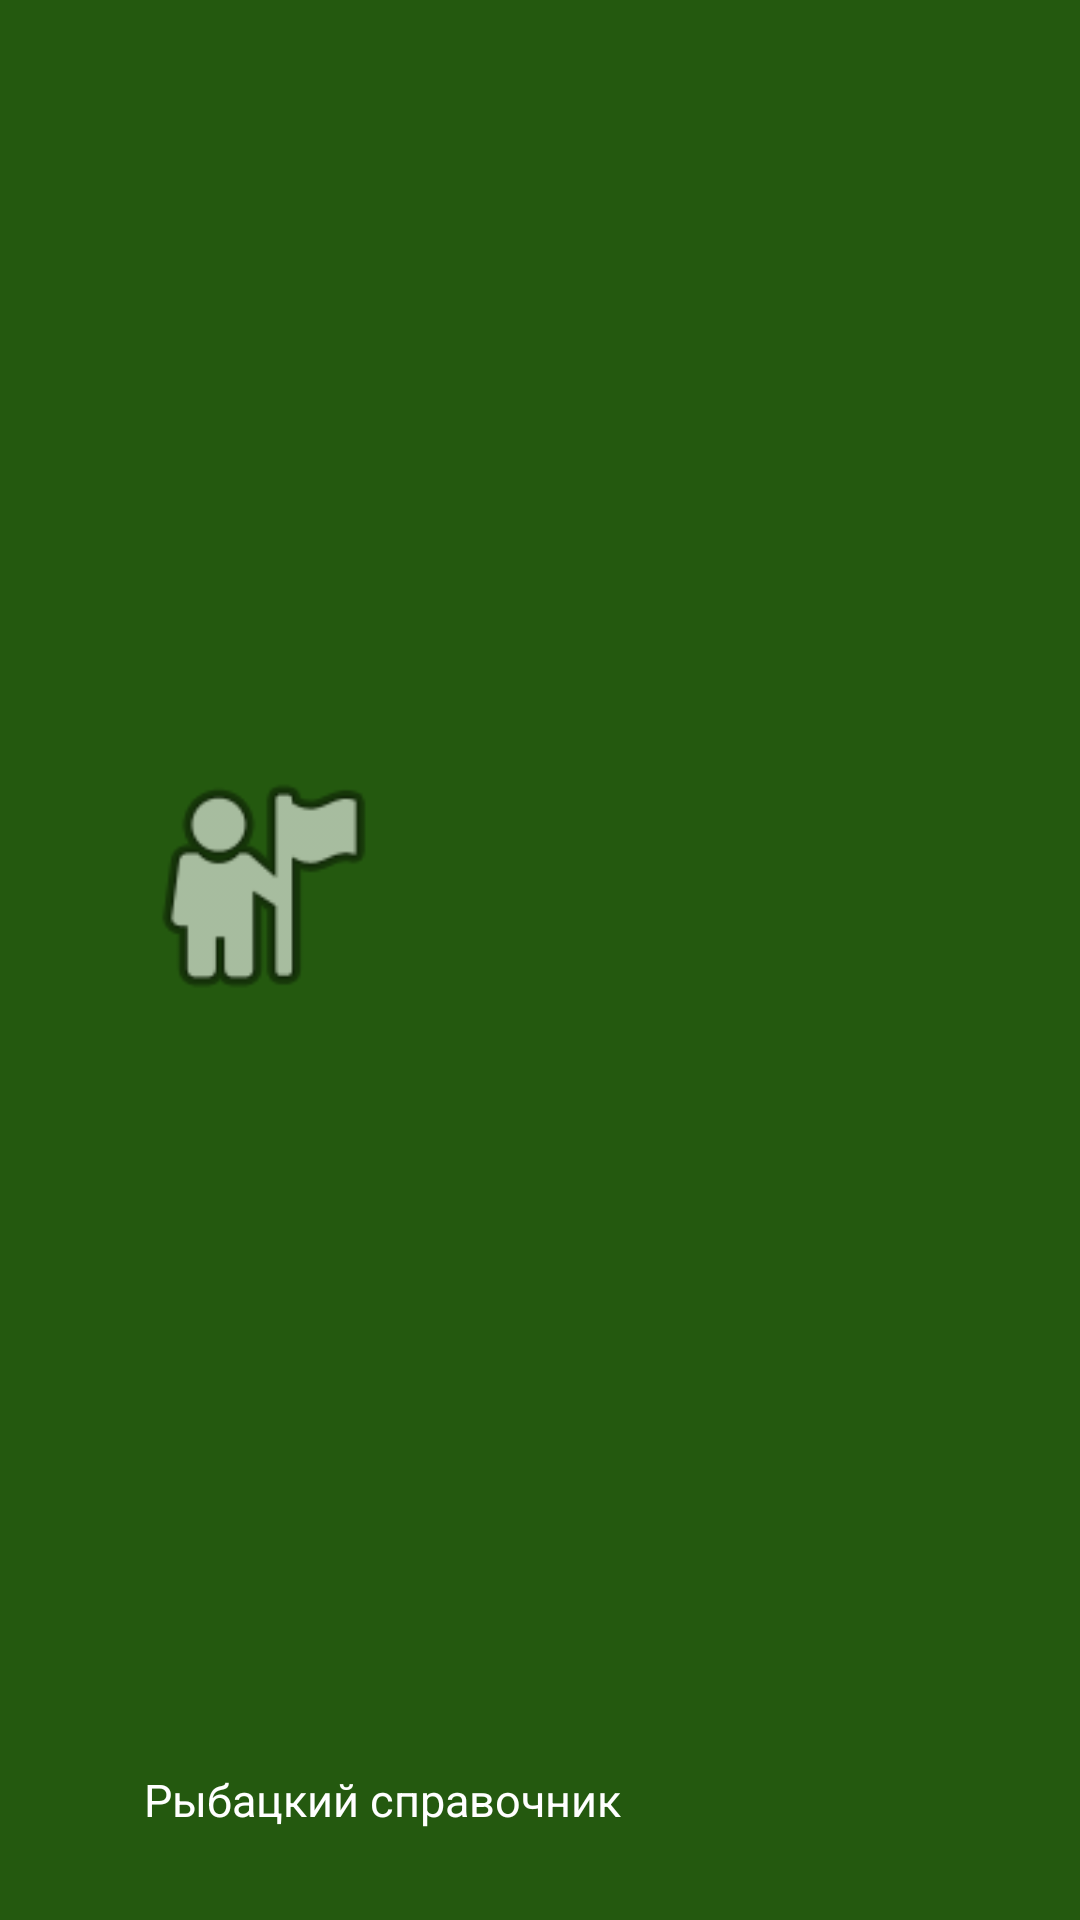

Named icons in this screenshot (1080×1920) and their centers, (x=x, y=y):
myplaces: (x=264, y=886)
